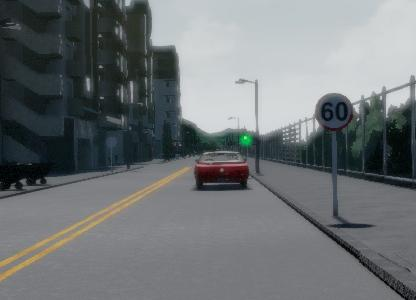Speed_60: (313, 91, 354, 132)
